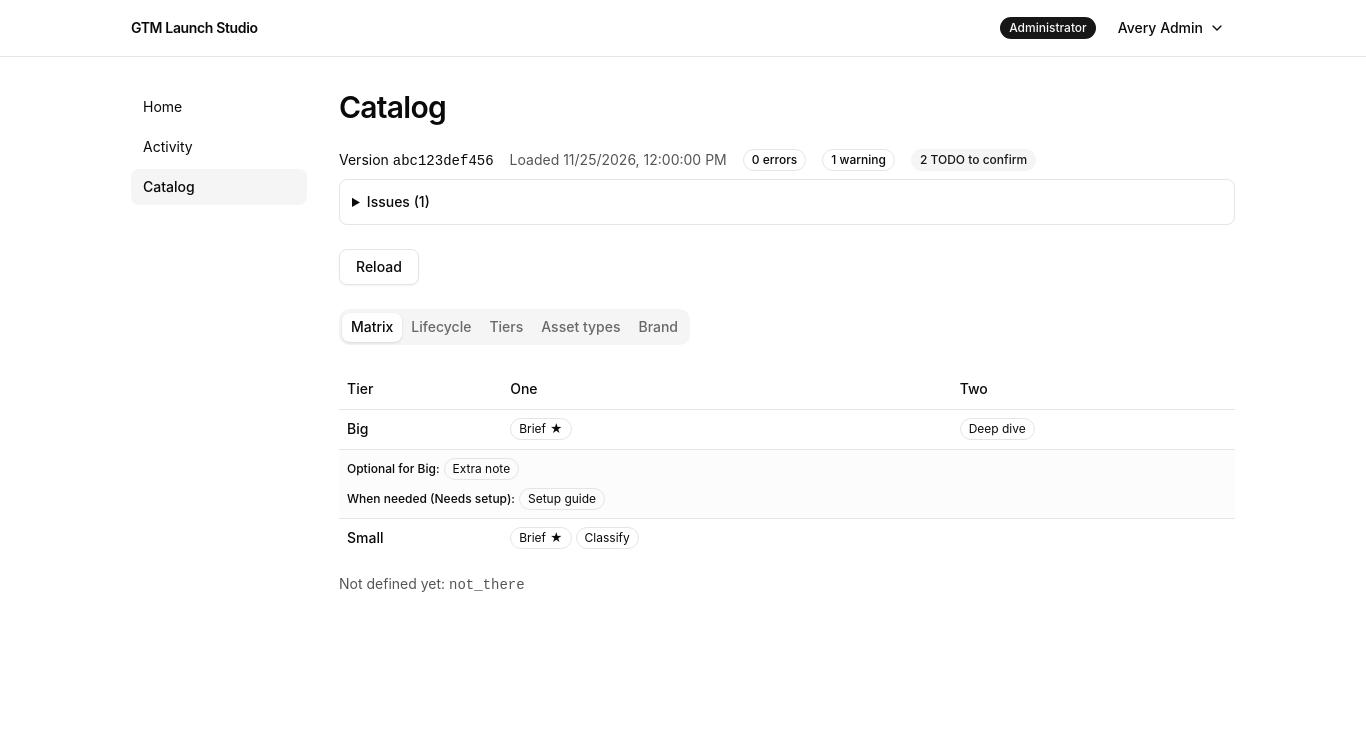
CatalogPage › asset type sheet › shows HTML in Markdown as text and drops remote images
This screenshot has width=1366, height=756.
Expected: the heading "Catalog" is shown, [339, 89, 446, 125]
Click the tab "Asset types" at (581, 327), box [532, 312, 630, 342]
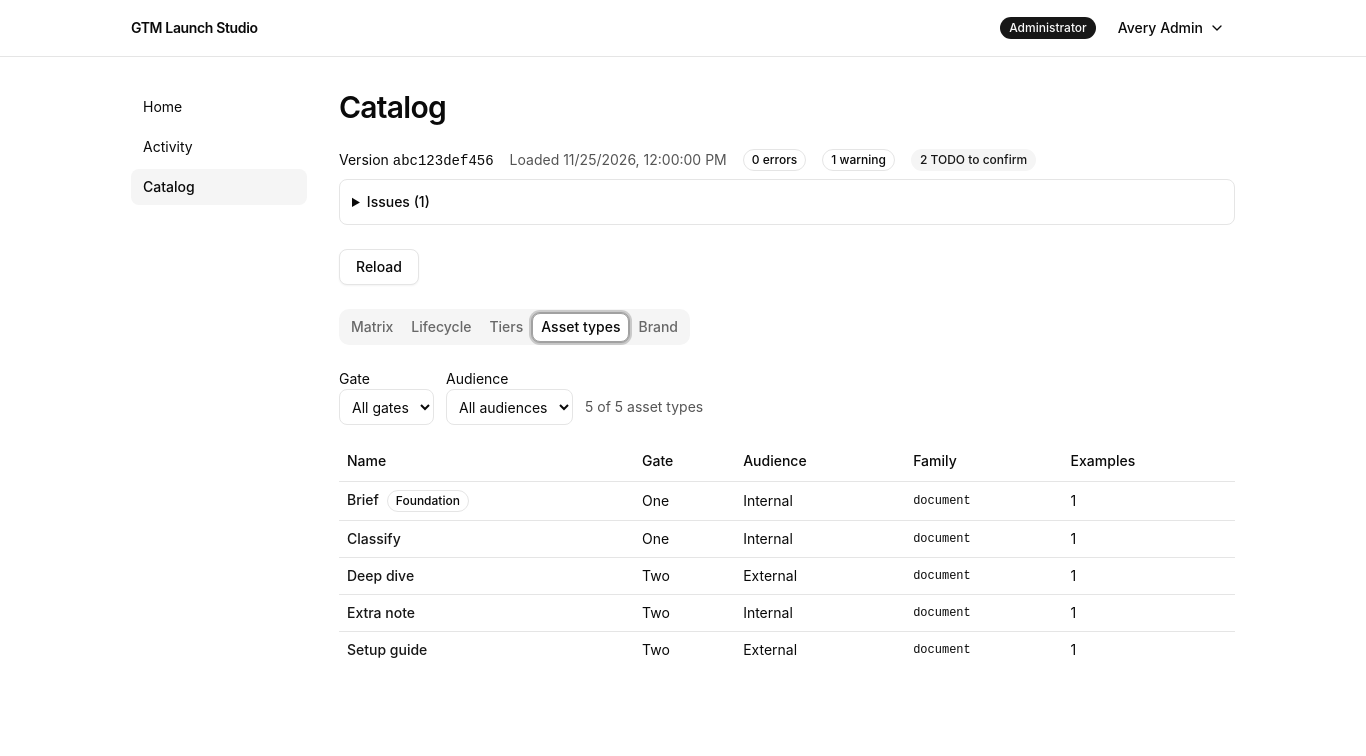
Click the button with aria-label "Open Brief" at (363, 500), box [347, 490, 379, 510]
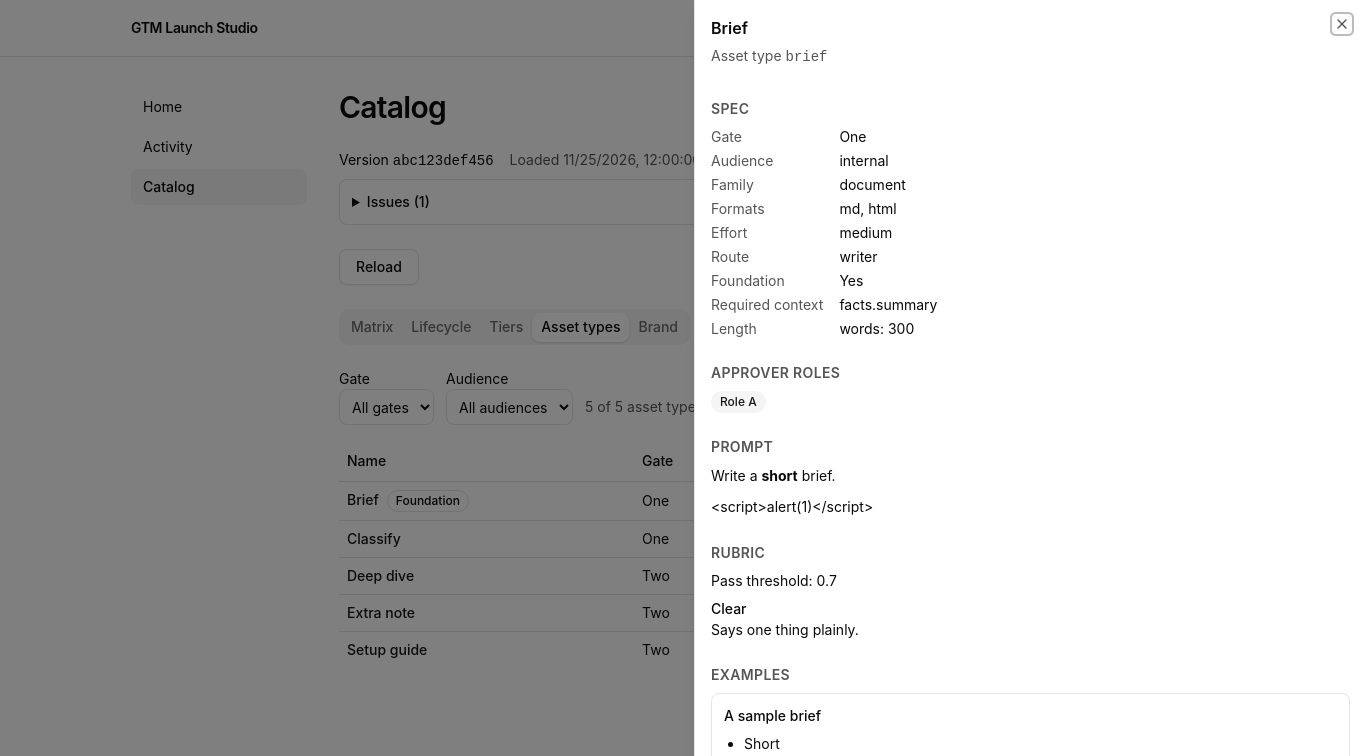
Now the text "Write a short brief. <script>alert(1)</script>" is shown, box [711, 467, 873, 515]
